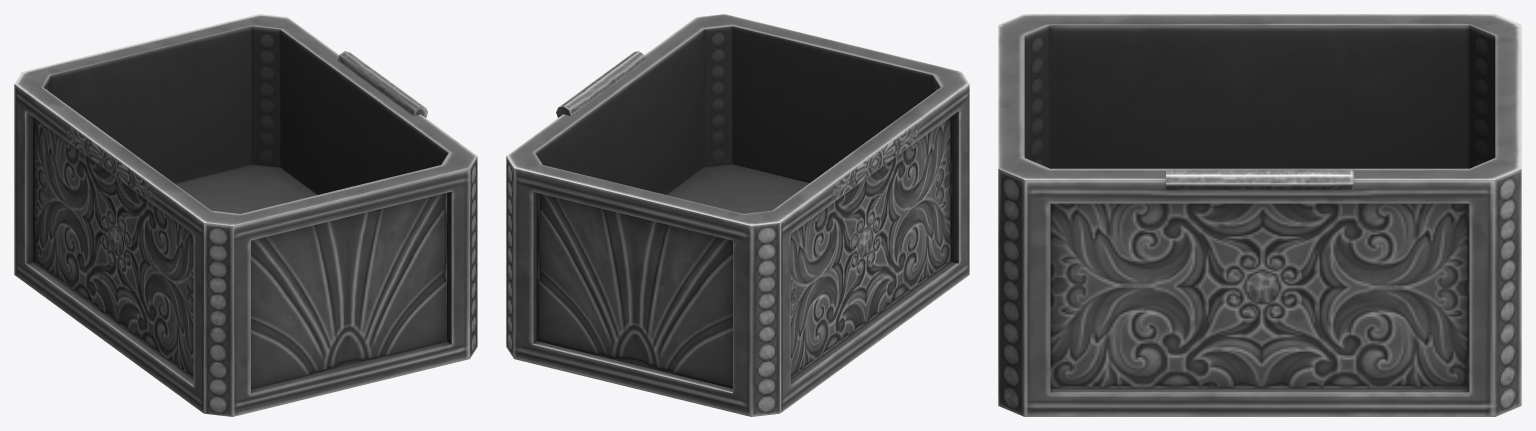
Rendered from SM_Jewelry_Box_A_Silver.fbx.
3 views of the same model, side by side, from view 1: azimuth 30°, elevation 25°; view 2: azimuth 150°, elevation 25°; view 3: azimuth 270°, elevation 25° (orthographic). The views are drawn at different scales.
Parts seen in each view (by area): view 1: SM_Jewelry_Box_A_Silver_LOD0; view 2: SM_Jewelry_Box_A_Silver_LOD0; view 3: SM_Jewelry_Box_A_Silver_LOD0.
Boxes of the visible parts, bbox=[...] form: SM_Jewelry_Box_A_Silver_LOD0: bbox=[14, 14, 477, 416]; SM_Jewelry_Box_A_Silver_LOD0: bbox=[506, 14, 969, 416]; SM_Jewelry_Box_A_Silver_LOD0: bbox=[998, 14, 1521, 416].
Size of the model in its own units: 15.41 by 20 by 10.41.
1 material, 1 textured.
